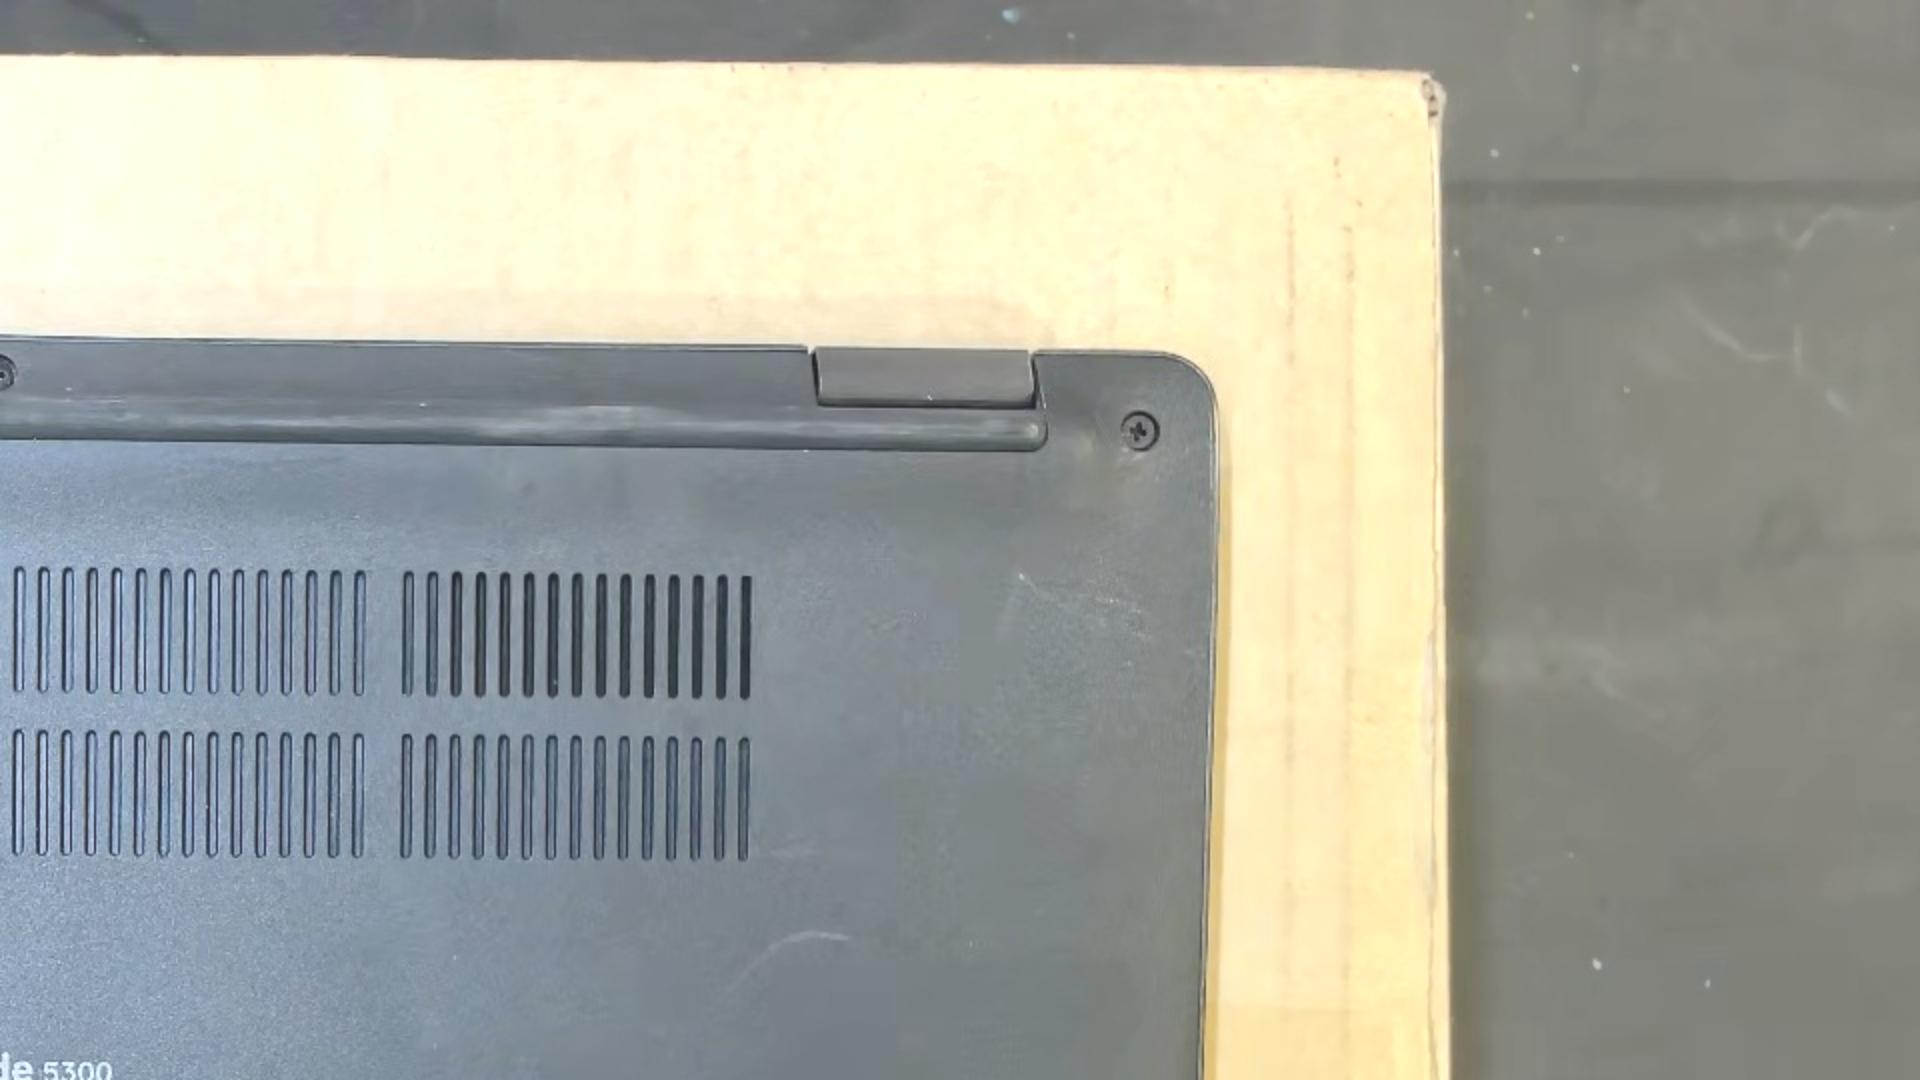scratches: (702, 928, 853, 1021), (1014, 571, 1150, 641)
